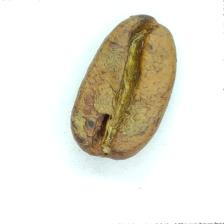NG: (80, 79, 149, 155)
